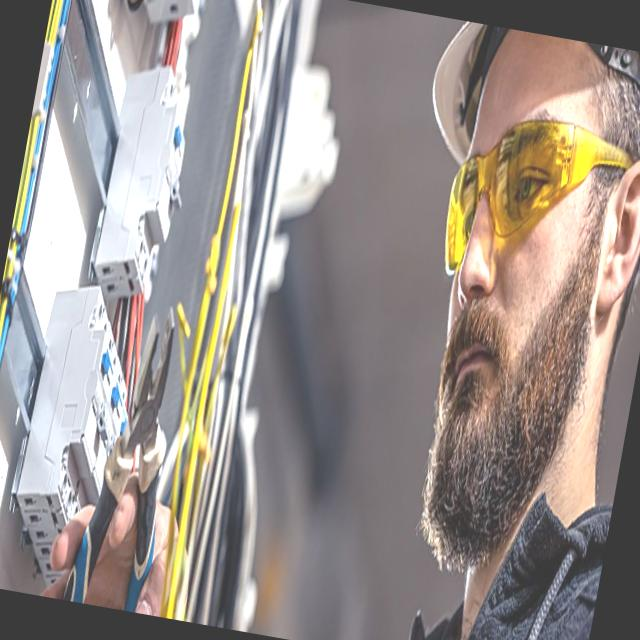goggles: (431, 96, 640, 310)
helmet: (414, 16, 640, 206)
no-vest: (450, 487, 611, 640)
